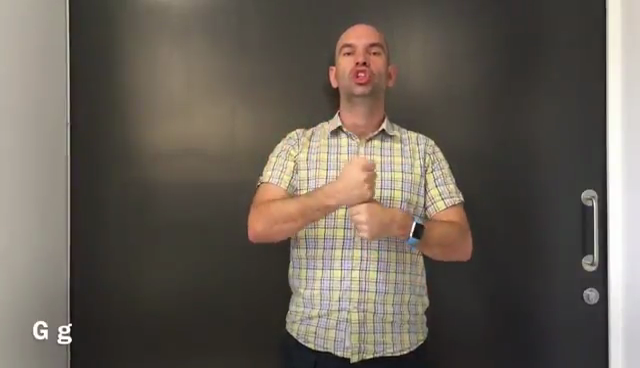G: (318, 146, 404, 255)
